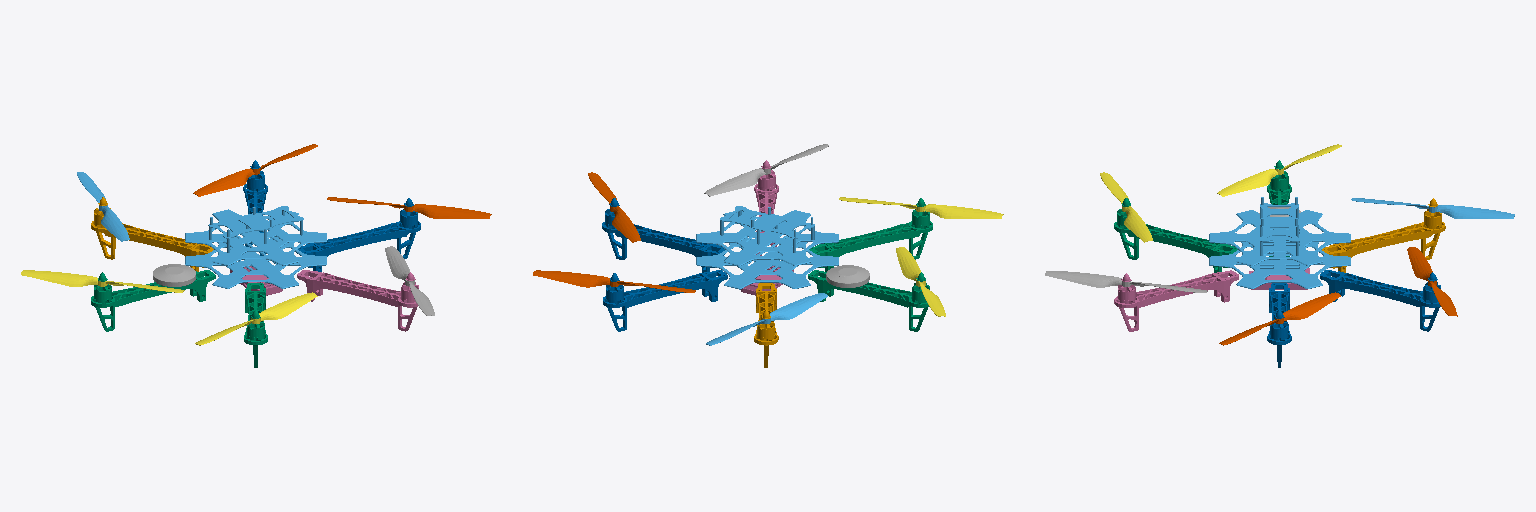
--- Render facts (derived) ---
Views: 3 orthographic renders of the robot side by side, from view 1: azimuth 30°, elevation 25°; view 2: azimuth 150°, elevation 25°; view 3: azimuth 270°, elevation 25°.
Robot: F550_rd — 19 links, 18 joints (2 revolute, 6 continuous, 10 fixed); root link base_link; default pose: every joint at zero.
Visible links, largest first — view 1: base_link_inertia, wing_2, wing_1, wing_0, wing_3, wing_4, rotor_1, rotor_0, rotor_4, rotor_5, rotor_2, rotor_3 (+2 smaller); view 2: base_link_inertia, wing_5, wing_4, wing_1, wing_0, wing_3, rotor_4, rotor_5, rotor_3, rotor_2, rotor_0, rotor_1 (+2 smaller); view 3: base_link_inertia, wing_2, wing_5, wing_3, wing_4, wing_1, rotor_2, rotor_3, rotor_1, rotor_0, rotor_5, rotor_4 (+1 smaller).
Boxes of the visible links, box(x1,y1,x2,y2) form: base_link_inertia: box(185, 206, 326, 288); wing_2: box(297, 270, 418, 331); wing_1: box(296, 198, 420, 271); wing_0: box(91, 270, 215, 331); wing_3: box(91, 197, 213, 271); wing_4: box(244, 283, 267, 367); rotor_1: box(327, 197, 491, 218); rotor_0: box(21, 270, 184, 292); rotor_4: box(195, 292, 317, 345); rotor_5: box(193, 144, 317, 196); rotor_2: box(385, 246, 434, 315); rotor_3: box(77, 172, 129, 241); base_link_inertia: box(696, 206, 838, 289); wing_5: box(603, 270, 727, 331); wing_4: box(809, 198, 932, 271); wing_1: box(602, 198, 724, 272); wing_0: box(808, 270, 929, 331); wing_3: box(754, 283, 778, 367); rotor_4: box(839, 197, 1003, 218); rotor_5: box(533, 270, 695, 292); rotor_3: box(706, 293, 827, 345); rotor_2: box(704, 144, 828, 196); rotor_0: box(896, 247, 945, 316); rotor_1: box(588, 172, 640, 242); base_link_inertia: box(1209, 197, 1350, 288); wing_2: box(1114, 270, 1238, 331); wing_5: box(1320, 270, 1440, 331); wing_3: box(1322, 198, 1445, 272); wing_4: box(1114, 198, 1237, 272); wing_1: box(1267, 283, 1291, 367); rotor_2: box(1045, 271, 1207, 292); rotor_3: box(1351, 198, 1514, 218); rotor_1: box(1219, 292, 1340, 345); rotor_0: box(1217, 144, 1341, 196); rotor_5: box(1407, 247, 1457, 316); rotor_4: box(1100, 172, 1152, 242).
Size in the robot's own frame: 0.7395 by 0.7292 by 0.136 metres.
15 mesh visuals loaded from 9 distinct referenced files (7 binary STL); not drawn: 2 (reference not matched to a file when rendering).

robot.urdf — F550_rd:
<?xml version="1.0" ?>
<!-- =================================================================================== -->
<!-- |    This document was autogenerated by xacro from F550_rd/F550_rd.xacro          | -->
<!-- |    EDITING THIS FILE BY HAND IS NOT RECOMMENDED                                 | -->
<!-- =================================================================================== -->
<robot name="F550_rd" xmlns:xacro="http://www.ros.org/wiki/xacro">
  <link name="base_link"/>
  <joint name="base_joint" type="fixed">
    <origin rpy="0 0 0" xyz="0 0 0"/>
    <parent link="base_link"/>
    <child link="base_link_inertia"/>
  </joint>
  <!-- base_link -->
  <link name="base_link_inertia">
    <inertial>
      <mass value="1.5"/>
      <!-- [kg] -->
      <origin xyz="0 0 0"/>
      <inertia ixx="0.0213982" ixy="0" ixz="0" iyy="0.021956" iyz="0.000340426" izz="0.0398396"/>
    </inertial>
    <visual>
      <origin rpy="0 0 0" xyz="0 0 0"/>
      <geometry>
        <mesh filename="package://F550/meshes/base_link.STL" scale="1 1 1"/>
      </geometry>
    </visual>
    <collision>
      <origin rpy="0 0 0" xyz="0 0 0"/>
      <geometry>
        <cylinder length="0.13" radius="0.295"/>
      </geometry>
    </collision>
  </link>
  <gazebo>
    <plugin filename="libgazebo_multirotor_base_plugin.so" name="rosbag">
      <robotNamespace></robotNamespace>
      <linkName>base_link</linkName>
      <rotorVelocitySlowdownSim>10</rotorVelocitySlowdownSim>
    </plugin>
  </gazebo>
  <gazebo reference="base_link">
    <material>Gazebo/Black</material>
    <collision name="base_link_inertia_collision">
      <surface>
        <contact>
          <ode>
            <min_depth>0.001</min_depth>
            <max_vel>0.0</max_vel>
          </ode>
        </contact>
        <friction>
          <ode/>
        </friction>
      </surface>
    </collision>
  </gazebo>
  <!-- wing joint -->
  <joint name="wing_0_joint" type="fixed">
    <origin rpy="0 0 2.35619" xyz="-0.21950 -0.17050 -0.04025"/>
    <axis xyz="0 0 0"/>
    <parent link="base_link"/>
    <child link="wing_0"/>
  </joint>
  <!-- wing link -->
  <link name="wing_0">
    <inertial>
      <origin rpy="0 0 0" xyz="0.12144 -0.11968 0.038426"/>
      <mass value="0.11819"/>
      <inertia ixx="0.00031708" ixy="-0.00028166" ixz="0" iyy="0.00031709" iyz="0" izz="0.00057917"/>
    </inertial>
    <visual>
      <geometry>
        <mesh filename="package://F550/meshes/cw_wing.STL" scale="1 1 1"/>
      </geometry>
    </visual>
  </link>
  <gazebo reference="wing_0">
    <material>Gazebo/White</material>
  </gazebo>
  <!-- rotor joint -->
  <joint name="rotor_0_joint" type="continuous">
    <origin rpy="0 0 0" xyz="0.15910 -0.08203 0.059733"/>
    <axis xyz="0 0 1"/>
    <parent link="wing_0"/>
    <child link="rotor_0"/>
  </joint>
  <!-- rotor link -->
  <link name="rotor_0">
    <inertial>
      <origin rpy="0 0 0" xyz="0 0 0.0078525"/>
      <mass value="0.0091837"/>
      <inertia ixx="3.009E-07" ixy="1.5042E-07" ixz="0" iyy="3.4024E-05" iyz="0" izz="3.4239E-05"/>
    </inertial>
    <visual>
      <geometry>
        <mesh filename="package://F550/meshes/cw_prop.STL" scale="1 1 1"/>
      </geometry>
    </visual>
    <collision>
      <geometry>
        <cylinder length="0.03" radius="0.13"/>
      </geometry>
    </collision>
  </link>
  <gazebo>
    <plugin filename="libgazebo_motor_model.so" name="right_motor_model">
      <robotNamespace></robotNamespace>
      <jointName>rotor_0_joint</jointName>
      <linkName>rotor_0</linkName>
      <turningDirection>cw</turningDirection>
      <timeConstantUp>0.0125</timeConstantUp>
      <timeConstantDown>0.025</timeConstantDown>
      <maxRotVelocity>1500</maxRotVelocity>
      <motorConstant>8.54858e-06</motorConstant>
      <momentConstant>0.06</momentConstant>
      <commandSubTopic>/gazebo/command/motor_speed</commandSubTopic>
      <motorNumber>0</motorNumber>
      <rotorDragCoefficient>0.000806428</rotorDragCoefficient>
      <rollingMomentCoefficient>1e-06</rollingMomentCoefficient>
      <motorSpeedPubTopic>/motor_speed/0</motorSpeedPubTopic>
      <rotorVelocitySlowdownSim>10</rotorVelocitySlowdownSim>
    </plugin>
  </gazebo>
  <gazebo reference="rotor_0">
    <material>Gazebo/Black</material>
  </gazebo>
  <!-- wing joint -->
  <joint name="wing_1_joint" type="fixed">
    <origin rpy="0 0 -0.78540" xyz="0.04792 0 -0.04025"/>
    <axis xyz="0 0 0"/>
    <parent link="base_link"/>
    <child link="wing_1"/>
  </joint>
  <!-- wing link -->
  <link name="wing_1">
    <inertial>
      <origin rpy="0 0 0" xyz="0.12144 0.12144 0.038426"/>
      <mass value="0.11819"/>
      <inertia ixx="0.00031708" ixy="-0.00028166" ixz="0" iyy="0.00031709" iyz="0" izz="0.00057917"/>
    </inertial>
    <visual>
      <geometry>
        <mesh filename="package://F550/meshes/ccw_wing.STL" scale="1 1 1"/>
      </geometry>
    </visual>
  </link>
  <gazebo reference="wing_1">
    <material>Gazebo/White</material>
  </gazebo>
  <!-- rotor joint -->
  <joint name="rotor_1_joint" type="continuous">
    <origin rpy="0 0 0" xyz="0.15910 0.15910 0.059733"/>
    <axis xyz="0 0 1"/>
    <parent link="wing_1"/>
    <child link="rotor_1"/>
  </joint>
  <!-- rotor link -->
  <link name="rotor_1">
    <inertial>
      <origin rpy="0 0 0" xyz="0 0 0.0078525"/>
      <mass value="0.0091837"/>
      <inertia ixx="3.00752E-07" ixy="-1.4455E-07" ixz="0" iyy="3.41061E-05" iyz="0" izz="3.43204E-05"/>
    </inertial>
    <visual>
      <geometry>
        <mesh filename="package://F550/meshes/ccw_prop.STL" scale="1 1 1"/>
      </geometry>
    </visual>
    <collision>
      <geometry>
        <cylinder length="0.03" radius="0.13"/>
      </geometry>
    </collision>
  </link>
  <gazebo>
    <plugin filename="libgazebo_motor_model.so" name="left_motor_model">
      <robotNamespace></robotNamespace>
      <jointName>rotor_1_joint</jointName>
      <linkName>rotor_1</linkName>
      <turningDirection>ccw</turningDirection>
      <timeConstantUp>0.0125</timeConstantUp>
      <timeConstantDown>0.025</timeConstantDown>
      <maxRotVelocity>1500</maxRotVelocity>
      <motorConstant>8.54858e-06</motorConstant>
      <momentConstant>0.06</momentConstant>
      <commandSubTopic>/gazebo/command/motor_speed</commandSubTopic>
      <motorNumber>1</motorNumber>
      <rotorDragCoefficient>0.000806428</rotorDragCoefficient>
      <rollingMomentCoefficient>1e-06</rollingMomentCoefficient>
      <motorSpeedPubTopic>/motor_speed/1</motorSpeedPubTopic>
      <rotorVelocitySlowdownSim>10</rotorVelocitySlowdownSim>
    </plugin>
  </gazebo>
  <gazebo reference="rotor_1">
    <material>Gazebo/Orange</material>
  </gazebo>
  <!-- wing joint -->
  <joint name="wing_2_joint" type="fixed">
    <origin rpy="0 0 -1.8326" xyz="0.25843 -0.10426 -0.04025"/>
    <axis xyz="0 0 0"/>
    <parent link="base_link"/>
    <child link="wing_2"/>
  </joint>
  <!-- wing link -->
  <link name="wing_2">
    <inertial>
      <origin rpy="0 0 0" xyz="0.12144 -0.11968 0.038426"/>
      <mass value="0.11819"/>
      <inertia ixx="0.00031708" ixy="-0.00028166" ixz="0" iyy="0.00031709" iyz="0" izz="0.00057917"/>
    </inertial>
    <visual>
      <geometry>
        <mesh filename="package://F550/meshes/cw_wing.STL" scale="1 1 1"/>
      </geometry>
    </visual>
  </link>
  <gazebo reference="wing_2">
    <material>Gazebo/White</material>
  </gazebo>
  <!-- rotor joint -->
  <joint name="rotor_2_joint" type="continuous">
    <origin rpy="0 0 0" xyz="0.15910 -0.08203 0.059733"/>
    <axis xyz="0 0 1"/>
    <parent link="wing_2"/>
    <child link="rotor_2"/>
  </joint>
  <!-- rotor link -->
  <link name="rotor_2">
    <inertial>
      <origin rpy="0 0 0" xyz="0 0 0.0078525"/>
      <mass value="0.0091837"/>
      <inertia ixx="3.009E-07" ixy="1.5042E-07" ixz="0" iyy="3.4024E-05" iyz="0" izz="3.4239E-05"/>
    </inertial>
    <visual>
      <geometry>
        <mesh filename="package://F550/meshes/cw_prop.STL" scale="1 1 1"/>
      </geometry>
    </visual>
    <collision>
      <geometry>
        <cylinder length="0.03" radius="0.13"/>
      </geometry>
    </collision>
  </link>
  <gazebo>
    <plugin filename="libgazebo_motor_model.so" name="left_front_motor_model">
      <robotNamespace></robotNamespace>
      <jointName>rotor_2_joint</jointName>
      <linkName>rotor_2</linkName>
      <turningDirection>cw</turningDirection>
      <timeConstantUp>0.0125</timeConstantUp>
      <timeConstantDown>0.025</timeConstantDown>
      <maxRotVelocity>1500</maxRotVelocity>
      <motorConstant>8.54858e-06</motorConstant>
      <momentConstant>0.06</momentConstant>
      <commandSubTopic>/gazebo/command/motor_speed</commandSubTopic>
      <motorNumber>2</motorNumber>
      <rotorDragCoefficient>0.000806428</rotorDragCoefficient>
      <rollingMomentCoefficient>1e-06</rollingMomentCoefficient>
      <motorSpeedPubTopic>/motor_speed/2</motorSpeedPubTopic>
      <rotorVelocitySlowdownSim>10</rotorVelocitySlowdownSim>
    </plugin>
  </gazebo>
  <gazebo reference="rotor_2">
    <material>Gazebo/Black</material>
  </gazebo>
  <!-- wing joint -->
  <joint name="wing_3_joint" type="fixed">
    <origin rpy="0 0 1.30900" xyz="-0.02299 0.04331 -0.04025"/>
    <axis xyz="0 0 0"/>
    <parent link="base_link"/>
    <child link="wing_3"/>
  </joint>
  <!-- wing link -->
  <link name="wing_3">
    <inertial>
      <origin rpy="0 0 0" xyz="0.12144 0.12144 0.038426"/>
      <mass value="0.11819"/>
      <inertia ixx="0.00031708" ixy="-0.00028166" ixz="0" iyy="0.00031709" iyz="0" izz="0.00057917"/>
    </inertial>
    <visual>
      <geometry>
        <mesh filename="package://F550/meshes/ccw_wing.STL" scale="1 1 1"/>
      </geometry>
    </visual>
  </link>
  <gazebo reference="wing_3">
    <material>Gazebo/Red</material>
  </gazebo>
  <!-- rotor joint -->
  <joint name="rotor_3_joint" type="continuous">
    <origin rpy="0 0 0" xyz="0.15910 0.15910 0.059733"/>
    <axis xyz="0 0 1"/>
    <parent link="wing_3"/>
    <child link="rotor_3"/>
  </joint>
  <!-- rotor link -->
  <link name="rotor_3">
    <inertial>
      <origin rpy="0 0 0" xyz="0 0 0.0078525"/>
      <mass value="0.0091837"/>
      <inertia ixx="3.00752E-07" ixy="-1.4455E-07" ixz="0" iyy="3.41061E-05" iyz="0" izz="3.43204E-05"/>
    </inertial>
    <visual>
      <geometry>
        <mesh filename="package://F550/meshes/ccw_prop.STL" scale="1 1 1"/>
      </geometry>
    </visual>
    <collision>
      <geometry>
        <cylinder length="0.03" radius="0.13"/>
      </geometry>
    </collision>
  </link>
  <gazebo>
    <plugin filename="libgazebo_motor_model.so" name="right_rear_motor_model">
      <robotNamespace></robotNamespace>
      <jointName>rotor_3_joint</jointName>
      <linkName>rotor_3</linkName>
      <turningDirection>ccw</turningDirection>
      <timeConstantUp>0.0125</timeConstantUp>
      <timeConstantDown>0.025</timeConstantDown>
      <maxRotVelocity>1500</maxRotVelocity>
      <motorConstant>8.54858e-06</motorConstant>
      <momentConstant>0.06</momentConstant>
      <commandSubTopic>/gazebo/command/motor_speed</commandSubTopic>
      <motorNumber>3</motorNumber>
      <rotorDragCoefficient>0.000806428</rotorDragCoefficient>
      <rollingMomentCoefficient>1e-06</rollingMomentCoefficient>
      <motorSpeedPubTopic>/motor_speed/3</motorSpeedPubTopic>
      <rotorVelocitySlowdownSim>10</rotorVelocitySlowdownSim>
    </plugin>
  </gazebo>
  <gazebo reference="rotor_3">
    <material>Gazebo/Orange</material>
  </gazebo>
  <!-- wing joint -->
  <joint name="wing_4_joint" type="fixed">
    <origin rpy="0 0 -2.87979" xyz="-0.02514 -0.04206 -0.04025"/>
    <axis xyz="0 0 0"/>
    <parent link="base_link"/>
    <child link="wing_4"/>
  </joint>
  <!-- wing link -->
  <link name="wing_4">
    <inertial>
      <origin rpy="0 0 0" xyz="0.12144 0.12144 0.038426"/>
      <mass value="0.11819"/>
      <inertia ixx="0.00031708" ixy="-0.00028166" ixz="0" iyy="0.00031709" iyz="0" izz="0.00057917"/>
    </inertial>
    <visual>
      <geometry>
        <mesh filename="package://F550/meshes/ccw_wing.STL" scale="1 1 1"/>
      </geometry>
    </visual>
  </link>
  <gazebo reference="wing_4">
    <material>Gazebo/White</material>
  </gazebo>
  <!-- rotor joint -->
  <joint name="rotor_4_joint" type="continuous">
    <origin rpy="0 0 0" xyz="0.15910 0.15910 0.059733"/>
    <axis xyz="0 0 1"/>
    <parent link="wing_4"/>
    <child link="rotor_4"/>
  </joint>
  <!-- rotor link -->
  <link name="rotor_4">
    <inertial>
      <origin rpy="0 0 0" xyz="0 0 0.0078525"/>
      <mass value="0.0091837"/>
      <inertia ixx="3.00752E-07" ixy="-1.4455E-07" ixz="0" iyy="3.41061E-05" iyz="0" izz="3.43204E-05"/>
    </inertial>
    <visual>
      <geometry>
        <mesh filename="package://F550/meshes/ccw_prop.STL" scale="1 1 1"/>
      </geometry>
    </visual>
    <collision>
      <geometry>
        <cylinder length="0.03" radius="0.13"/>
      </geometry>
    </collision>
  </link>
  <gazebo>
    <plugin filename="libgazebo_motor_model.so" name="right_front_motor_model">
      <robotNamespace></robotNamespace>
      <jointName>rotor_4_joint</jointName>
      <linkName>rotor_4</linkName>
      <turningDirection>ccw</turningDirection>
      <timeConstantUp>0.0125</timeConstantUp>
      <timeConstantDown>0.025</timeConstantDown>
      <maxRotVelocity>1500</maxRotVelocity>
      <motorConstant>8.54858e-06</motorConstant>
      <momentConstant>0.06</momentConstant>
      <commandSubTopic>/gazebo/command/motor_speed</commandSubTopic>
      <motorNumber>4</motorNumber>
      <rotorDragCoefficient>0.000806428</rotorDragCoefficient>
      <rollingMomentCoefficient>1e-06</rollingMomentCoefficient>
      <motorSpeedPubTopic>/motor_speed/4</motorSpeedPubTopic>
      <rotorVelocitySlowdownSim>10</rotorVelocitySlowdownSim>
    </plugin>
  </gazebo>
  <gazebo reference="rotor_4">
    <material>Gazebo/Orange</material>
  </gazebo>
  <!-- wing joint -->
  <joint name="wing_5_joint" type="fixed">
    <origin rpy="0 0 0.261800" xyz="-0.03913 0.27481 -0.04025"/>
    <axis xyz="0 0 0"/>
    <parent link="base_link"/>
    <child link="wing_5"/>
  </joint>
  <!-- wing link -->
  <link name="wing_5">
    <inertial>
      <origin rpy="0 0 0" xyz="0.12144 -0.11968 0.038426"/>
      <mass value="0.11819"/>
      <inertia ixx="0.00031708" ixy="-0.00028166" ixz="0" iyy="0.00031709" iyz="0" izz="0.00057917"/>
    </inertial>
    <visual>
      <geometry>
        <mesh filename="package://F550/meshes/cw_wing.STL" scale="1 1 1"/>
      </geometry>
    </visual>
  </link>
  <gazebo reference="wing_5">
    <material>Gazebo/Red</material>
  </gazebo>
  <!-- rotor joint -->
  <joint name="rotor_5_joint" type="continuous">
    <origin rpy="0 0 0" xyz="0.15910 -0.08203 0.059733"/>
    <axis xyz="0 0 1"/>
    <parent link="wing_5"/>
    <child link="rotor_5"/>
  </joint>
  <!-- rotor link -->
  <link name="rotor_5">
    <inertial>
      <origin rpy="0 0 0" xyz="0 0 0.0078525"/>
      <mass value="0.0091837"/>
      <inertia ixx="3.009E-07" ixy="1.5042E-07" ixz="0" iyy="3.4024E-05" iyz="0" izz="3.4239E-05"/>
    </inertial>
    <visual>
      <geometry>
        <mesh filename="package://F550/meshes/cw_prop.STL" scale="1 1 1"/>
      </geometry>
    </visual>
    <collision>
      <geometry>
        <cylinder length="0.03" radius="0.13"/>
      </geometry>
    </collision>
  </link>
  <gazebo>
    <plugin filename="libgazebo_motor_model.so" name="left_rear_motor_model">
      <robotNamespace></robotNamespace>
      <jointName>rotor_5_joint</jointName>
      <linkName>rotor_5</linkName>
      <turningDirection>cw</turningDirection>
      <timeConstantUp>0.0125</timeConstantUp>
      <timeConstantDown>0.025</timeConstantDown>
      <maxRotVelocity>1500</maxRotVelocity>
      <motorConstant>8.54858e-06</motorConstant>
      <momentConstant>0.06</momentConstant>
      <commandSubTopic>/gazebo/command/motor_speed</commandSubTopic>
      <motorNumber>5</motorNumber>
      <rotorDragCoefficient>0.000806428</rotorDragCoefficient>
      <rollingMomentCoefficient>1e-06</rollingMomentCoefficient>
      <motorSpeedPubTopic>/motor_speed/5</motorSpeedPubTopic>
      <rotorVelocitySlowdownSim>10</rotorVelocitySlowdownSim>
    </plugin>
  </gazebo>
  <gazebo reference="rotor_5">
    <material>Gazebo/Black</material>
  </gazebo>
  <!-- link -->
  <link name="fcu_px2">
    <inertial>
      <origin rpy="0 0 0" xyz="0.002093 0.00024832 -0.0059171"/>
      <mass value="0.25"/>
      <inertia ixx="7.9881E-06" ixy="1.4254E-07" ixz="9.5267E-07" iyy="3.4253E-05" iyz="-1.0276E-08" izz="4.0844E-05"/>
    </inertial>
    <visual>
      <geometry>
        <mesh filename="package://F550/meshes/fcu_px2.STL" scale="1 1 1"/>
      </geometry>
    </visual>
  </link>
  <gazebo reference="fcu_px2">
    <material>Gazebo/FlatBlack</material>
  </gazebo>
  <!-- joint -->
  <joint name="fcu_px2_fix" type="fixed">
    <origin rpy="3.14159 0 1.5708" xyz="0 0 -0.039497"/>
    <parent link="base_link"/>
    <child link="fcu_px2"/>
    <axis xyz="0 0 0"/>
  </joint>
  <!-- link -->
  <link name="gps_here">
    <inertial>
      <origin rpy="0 0 0" xyz="0 0 0.0084082"/>
      <mass value="0.0"/>
      <inertia ixx="2.9868E-05" ixy="0" ixz="0" iyy="2.9724E-05" iyz="4.7726E-08" izz="5.5952E-05"/>
    </inertial>
    <visual>
      <geometry>
        <mesh filename="package://F550/meshes/gps_here.STL" scale="1 1 1"/>
      </geometry>
    </visual>
  </link>
  <gazebo reference="gps_here">
    <material>Gazebo/DarkGrey</material>
  </gazebo>
  <!-- joint -->
  <joint name="gps_here_fix" type="fixed">
    <origin rpy="3.14159 0 -1.5708" xyz="0.001985 -0.145 -0.037997"/>
    <parent link="fcu_px2"/>
    <child link="gps_here"/>
    <axis xyz="0 0 0"/>
  </joint>
  <gazebo>
    <plugin filename="libgazebo_gps_plugin.so" name="gps_plugin">
      <robotNamespace></robotNamespace>
      <gpsNoise>true</gpsNoise>
    </plugin>
  </gazebo>
  <gazebo>
    <plugin filename="libgazebo_mavlink_interface.so" name="mavlink_interface">
      <robotNamespace></robotNamespace>
      <imuSubTopic>/imu</imuSubTopic>
      <gpsSubTopic>/gps</gpsSubTopic>
      <mavlink_addr>INADDR_ANY</mavlink_addr>
      <mavlink_udp_port>14560</mavlink_udp_port>
      <serialEnabled>false</serialEnabled>
      <serialDevice>/dev/ttyACM0</serialDevice>
      <baudRate>921600</baudRate>
      <qgc_addr>INADDR_ANY</qgc_addr>
      <qgc_udp_port>14550</qgc_udp_port>
      <hil_mode>false</hil_mode>
      <hil_state_level>false</hil_state_level>
      <vehicle_is_tailsitter>false</vehicle_is_tailsitter>
      <send_odometry>false</send_odometry>
      <motorSpeedCommandPubTopic>/gazebo/command/motor_speed</motorSpeedCommandPubTopic>
      <control_channels>
        <channel name="rotor1">
          <input_index>0</input_index>
          <input_offset>0</input_offset>
          <input_scaling>1000</input_scaling>
          <zero_position_disarmed>0</zero_position_disarmed>
          <zero_position_armed>100</zero_position_armed>
          <joint_control_type>velocity</joint_control_type>
          <joint_name>rotor_0_joint</joint_name>
        </channel>
        <channel name="rotor2">
          <input_index>1</input_index>
          <input_offset>0</input_offset>
          <input_scaling>1000</input_scaling>
          <zero_position_disarmed>0</zero_position_disarmed>
          <zero_position_armed>100</zero_position_armed>
          <joint_control_type>velocity</joint_control_type>
          <joint_name>rotor_1_joint</joint_name>
        </channel>
        <channel name="rotor3">
          <input_index>2</input_index>
          <input_offset>0</input_offset>
          <input_scaling>1000</input_scaling>
          <zero_position_disarmed>0</zero_position_disarmed>
          <zero_position_armed>100</zero_position_armed>
          <joint_control_type>velocity</joint_control_type>
          <joint_name>rotor_2_joint</joint_name>
        </channel>
        <channel name="rotor4">
          <input_index>3</input_index>
          <input_offset>0</input_offset>
          <input_scaling>1000</input_scaling>
          <zero_position_disarmed>0</zero_position_disarmed>
          <zero_position_armed>100</zero_position_armed>
          <joint_control_type>velocity</joint_control_type>
          <joint_name>rotor_3_joint</joint_name>
        </channel>
        <channel name="rotor5">
          <input_index>4</input_index>
          <input_offset>0</input_offset>
          <input_scaling>1000</input_scaling>
          <zero_position_disarmed>0</zero_position_disarmed>
          <zero_position_armed>100</zero_position_armed>
          <joint_control_type>velocity</joint_control_type>
          <joint_name>rotor_4_joint</joint_name>
        </channel>
        <channel name="rotor6">
          <input_index>5</input_index>
          <input_offset>0</input_offset>
          <input_scaling>1000</input_scaling>
          <zero_position_disarmed>0</zero_position_disarmed>
          <zero_position_armed>100</zero_position_armed>
          <joint_control_type>velocity</joint_control_type>
          <joint_name>rotor_5_joint</joint_name>
        </channel>
      </control_channels>
    </plugin>
  </gazebo>
  <static>0</static>
  <!-- IMU Link -->
  <link name="/imu_link">
    <inertial>
      <inertia ixx="1e-05" ixy="0" ixz="0" iyy="1e-05" iyz="0" izz="1e-05"/>
      <mass value="0.015"/>
      <!-- kg -->
      <origin rpy="0 0 0" xyz="0 0 0"/>
    </inertial>
  </link>
  <!-- IMU Joint -->
  <joint name="/imu_joint" type="revolute">
    <origin rpy="0 0 0" xyz="0 0 0"/>
    <parent link="base_link"/>
    <child link="/imu_link"/>
    <limit effort="0" lower="0" upper="0" velocity="0"/>
  </joint>
  <gazebo>
    <plugin filename="libgazebo_imu_plugin.so" name="rotors_gazebo_imu_plugin">
      <!-- See below for the details of parameters:
            https://github.com/ethz-asl/kalibr/wiki/IMU-Noise-Model-and-Intrinsics -->
      <robotNamespace></robotNamespace>
      <linkName>/imu_link</linkName>
      <imuTopic>/imu</imuTopic>
      <gyroscopeNoiseDensity>0.0003394</gyroscopeNoiseDensity>
      <gyroscopeRandomWalk>3.8785e-05</gyroscopeRandomWalk>
      <gyroscopeBiasCorrelationTime>1000.0</gyroscopeBiasCorrelationTime>
      <gyroscopeTurnOnBiasSigma>0.0087</gyroscopeTurnOnBiasSigma>
      <accelerometerNoiseDensity>0.004</accelerometerNoiseDensity>
      <accelerometerRandomWalk>0.006</accelerometerRandomWalk>
      <accelerometerBiasCorrelationTime>300.0</accelerometerBiasCorrelationTime>
      <accelerometerTurnOnBiasSigma>0.196</accelerometerTurnOnBiasSigma>
    </plugin>
  </gazebo>
  <!-- LiDAR Link -->
  <link name="lidar_link">
    <inertial>
      <mass value="0.3"/>
      <inertia ixx="0.00023701" ixy="0" ixz="0" iyy="0.00023618" iyz="0" izz="0.00014751"/>
    </inertial>
    <visual>
      <geometry>
        <mesh filename="package://F550_rd/meshes/hokuyo.STL" scale="1 1 1"/>
      </geometry>
    </visual>
  </link>
  <!-- Joint -->
  <joint name="lidar_joint" type="revolute">
    <origin rpy="0 0 3.14" xyz="0 0.01 0.026"/>
    <child link="lidar_link"/>
    <parent link="base_link"/>
    <limit effort="0" lower="0" upper="0" velocity="0"/>
  </joint>
  <!-- Sensor -->
  <gazebo reference="lidar_link">
    <material>Gazebo/DarkGrey</material>
    <sensor name="laser" type="ray">
      <pose>0 -0.03 0.055 0 0 -1.57</pose>
      <ray>
        <scan>
          <horizontal>
            <samples>720</samples>
            <resolution>1</resolution>
            <min_angle>-2.0944</min_angle>
            <max_angle>2.0944</max_angle>
          </horizontal>
        </scan>
        <range>
          <min>0.1</min>
          <max>30</max>
          <resolution>0.01</resolution>
        </range>
        <noise>
          <type>gaussian</type>
          <mean>0.0</mean>
          <stddev>0.01</stddev>
        </noise>
      </ray>
      <plugin filename="libgazebo_ros_laser.so" name="LaserPlugin">
        <topicName>/laser/scan</topicName>
        <frameName>lidar_link</frameName>
      </plugin>
      <always_on>1</always_on>
      <update_rate>40</update_rate>
      <visualize>true</visualize>
    </sensor>
  </gazebo>
  <!-- Odroid -->
  <link name="odroid_link">
    <inertial>
      <origin rpy="0 0 0" xyz="0.0057413 0.00030748 -0.0052843"/>
      <mass value="0.08"/>
      <inertia ixx="4.4834E-06" ixy="3.2726E-07" ixz="1.7419E-07" iyy="6.5755E-06" iyz="1.4639E-08" izz="1.0308E-05"/>
    </inertial>
    <visual>
      <origin rpy="3.14 0 0" xyz="0 0 0"/>
      <geometry>
        <mesh filename="package://F550_rd/meshes/odroid.STL" scale="1 1 1"/>
      </geometry>
    </visual>
  </link>
  <joint name="odoroid_joint" type="fixed">
    <child link="odroid_link"/>
    <parent link="base_link"/>
    <origin rpy="0 0 1.57" xyz="0 -0.032 0.038"/>
  </joint>
  <gazebo reference="odroid_link">
    <material>Gazebo/DarkGrey</material>
  </gazebo>
</robot>
